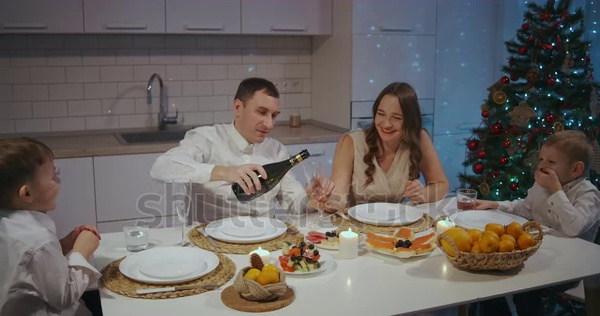No Mask: (3, 136, 79, 219), (232, 71, 282, 150), (531, 130, 595, 190), (367, 84, 421, 147)
